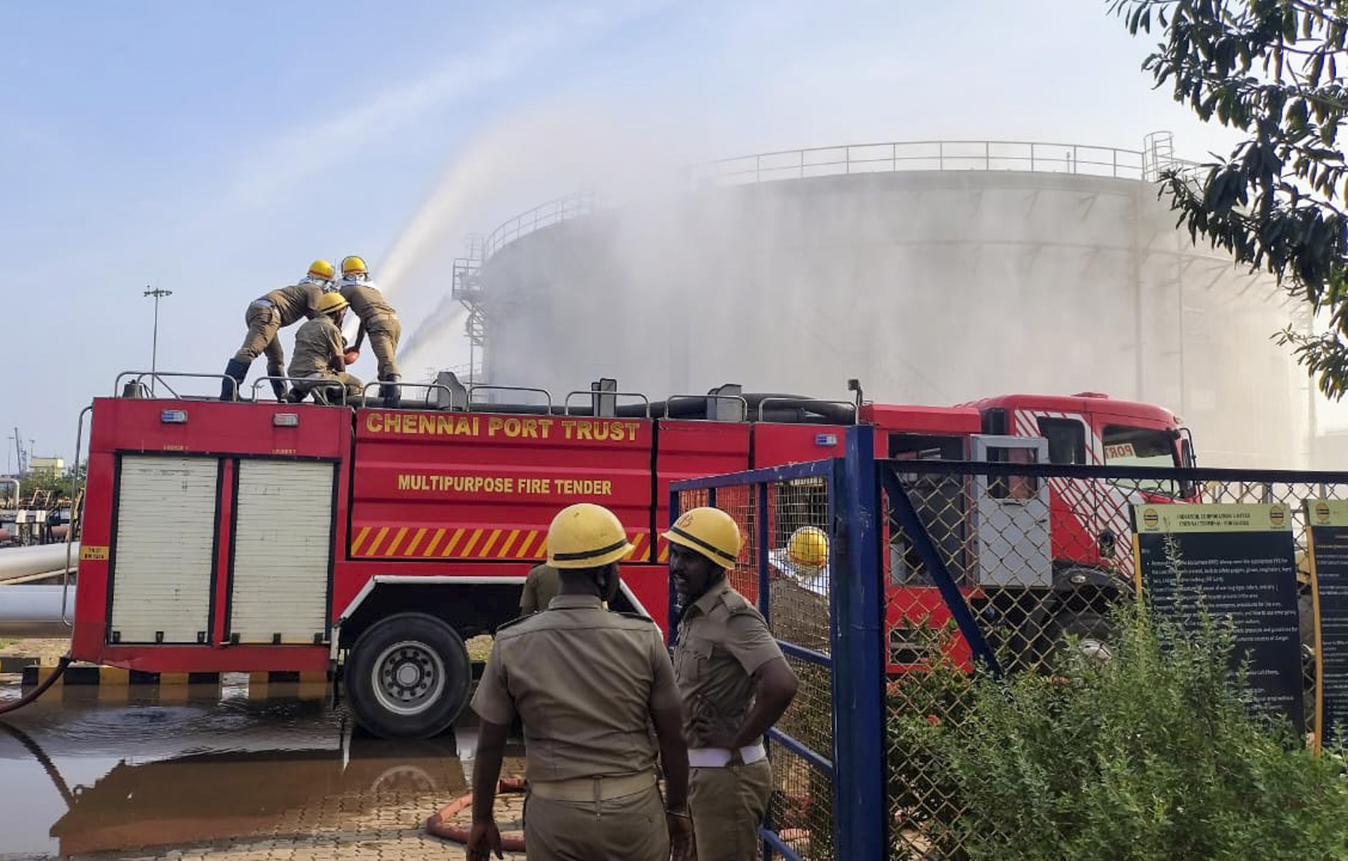Fire-engine: (69, 389, 1174, 710)
